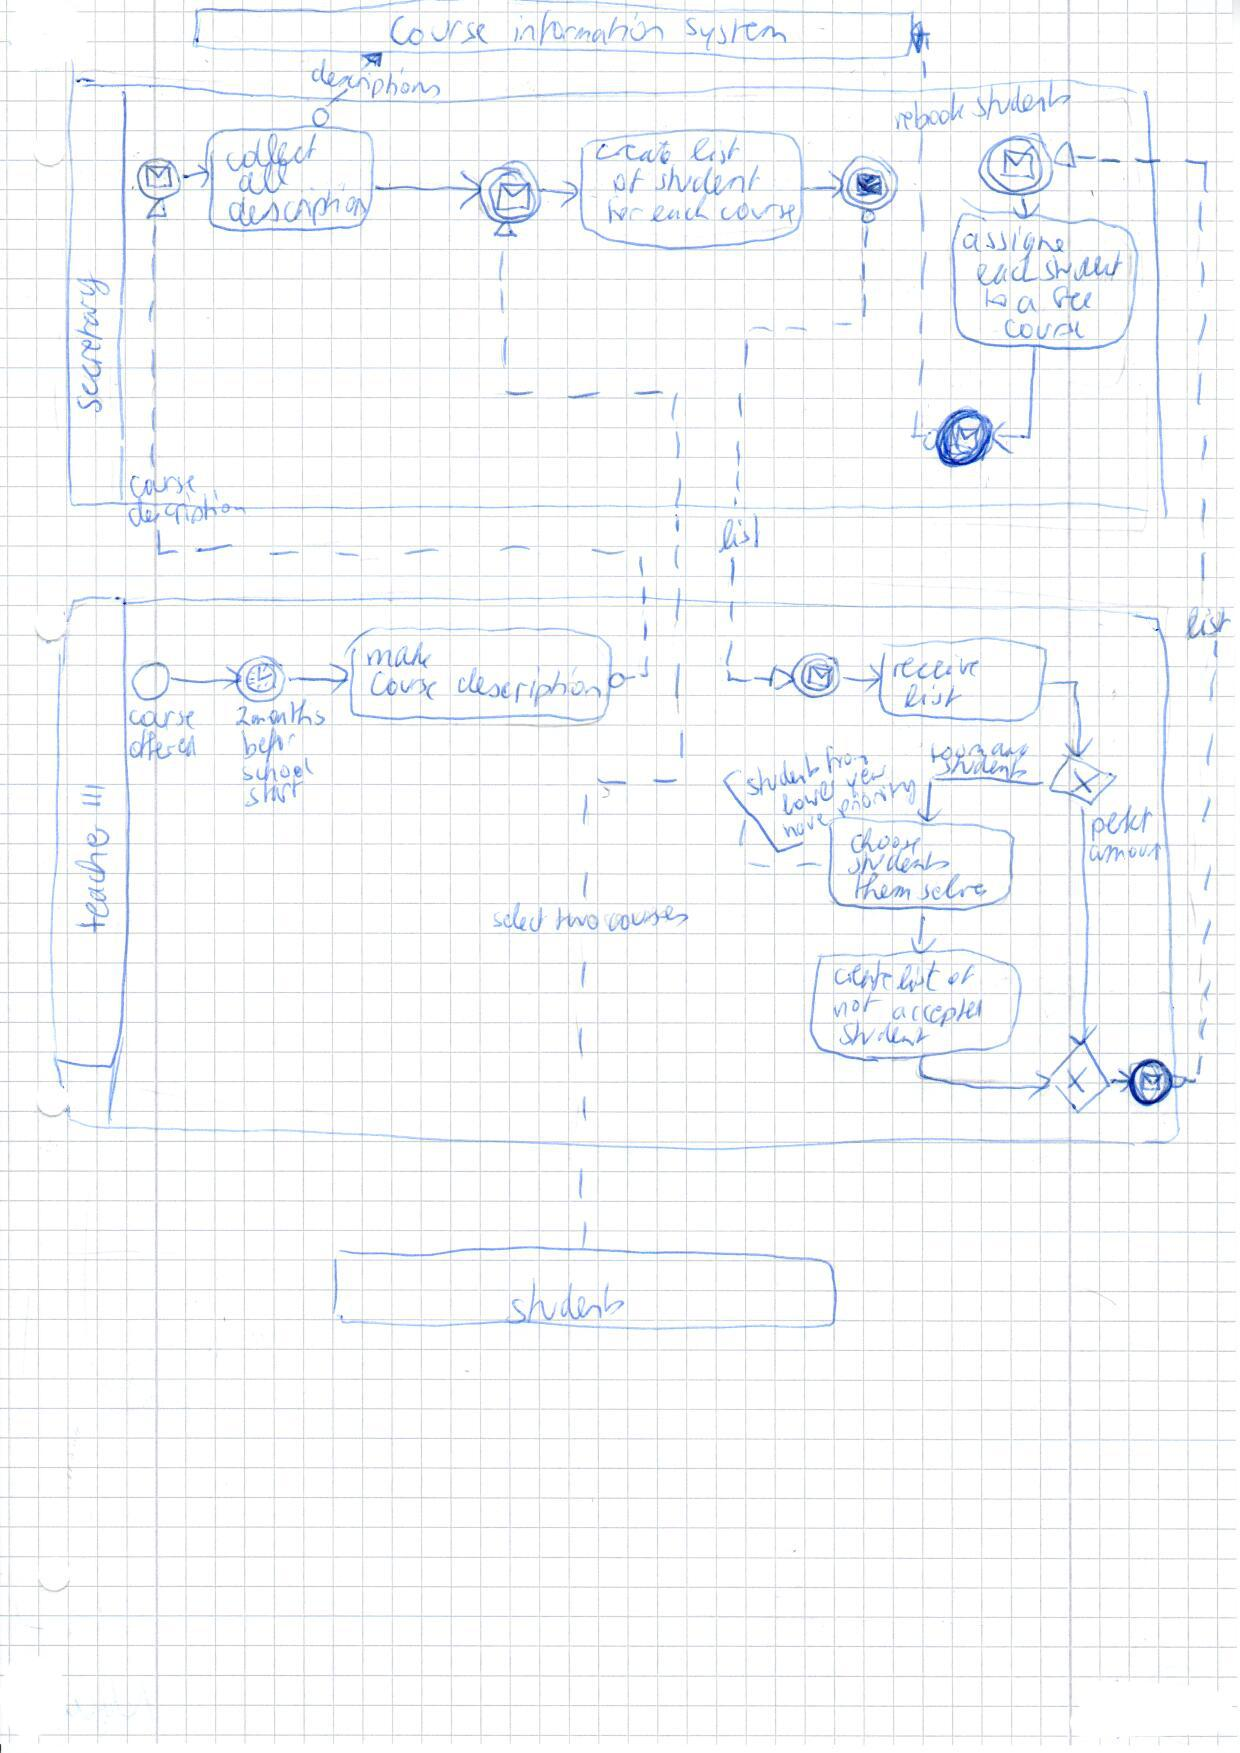2: (234, 700, 250, 730)
III: (76, 783, 107, 807)
a: (1013, 291, 1041, 319)
accepted: (891, 998, 990, 1026)
all: (237, 164, 292, 196)
amount: (1086, 841, 1164, 867)
assigne: (960, 222, 1066, 260)
before: (239, 728, 297, 760)
choose: (849, 827, 921, 854)
collect: (224, 134, 322, 171)
course: (385, 14, 494, 46), (718, 199, 798, 227), (369, 671, 442, 702), (1003, 317, 1084, 343), (126, 705, 198, 731), (130, 471, 197, 498)
courses: (606, 902, 688, 934)
create: (595, 133, 673, 167), (830, 961, 894, 993)
description: (454, 666, 603, 705), (310, 61, 444, 102), (226, 190, 368, 228), (130, 492, 250, 527)
each: (975, 257, 1041, 289), (651, 195, 713, 224)
for: (602, 196, 647, 224)
free: (1050, 286, 1097, 315)
from: (819, 747, 866, 779)
have: (776, 829, 830, 847)
information: (511, 9, 667, 50)
list: (1179, 606, 1234, 643), (686, 133, 742, 167), (717, 514, 761, 556), (903, 683, 964, 709), (894, 961, 939, 994)
lower: (775, 798, 837, 823)
make: (363, 640, 433, 668)
many: (971, 742, 1033, 761)
months: (248, 698, 327, 729)
not: (832, 993, 880, 1024)
of: (611, 166, 647, 197), (943, 962, 981, 988)
offered: (127, 731, 200, 762)
perfect: (1088, 806, 1155, 841)
priority: (833, 799, 917, 830)
rebook: (893, 95, 967, 136)
receive: (890, 650, 985, 681)
school: (237, 757, 316, 783)
secretary: (75, 275, 110, 414)
select: (491, 902, 547, 931)
start: (245, 779, 304, 808)
student: (654, 164, 764, 196), (1040, 249, 1127, 286), (839, 1021, 930, 1048)
students: (506, 1279, 625, 1321), (972, 80, 1074, 121), (849, 850, 952, 875), (740, 775, 820, 804), (938, 757, 1031, 781)
system: (680, 15, 793, 52)
teacher: (74, 821, 111, 937)
themselves: (850, 876, 989, 901)
to: (981, 286, 1014, 314)
too: (927, 741, 967, 764)
two: (552, 907, 604, 933)
year: (841, 775, 888, 798)
